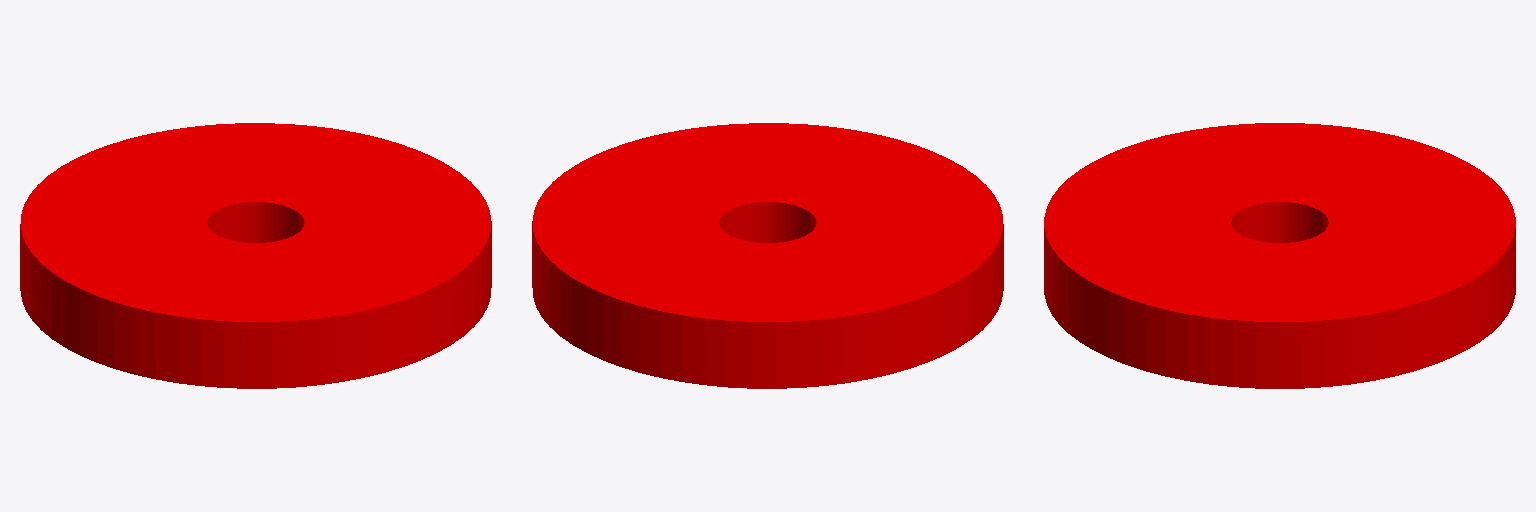
URDF robot description (token_d460):
<?xml version="1.0"?>
<robot name="token_d460">

    <material name="red">
        <color rgba="1 0 0 1"/>
    </material>

    <link name="token_d460_link">
        <inertial>
            <origin xyz="0 0 0.0036"/>
            <mass value="0.4" />
            <inertia  ixx="0.000056333" ixy="0.0"  ixz="0.0"  iyy="0.000056333"  iyz="0.0"  izz="0.000109850" />
        </inertial>
        <visual>
            <origin rpy="0 0 0" xyz="0 0 0"/>
            <geometry>
                <mesh filename="package://edo_games/meshes/towers_of_hanoi/token-46.STL" />
            </geometry>
            <material name="red"/>
        </visual>
        <collision>
            <origin rpy="0 0 0" xyz="0 0 0"/>
            <geometry>
                <mesh filename="package://edo_games/meshes/towers_of_hanoi/token-46.STL" />
            </geometry>
        </collision>
    </link>
    <gazebo reference="token_d460_link">
        <dampingFactor>0.5</dampingFactor>
        <material>Gazebo/Red</material>
    </gazebo>

</robot>

--- Facts derived from the render (not from the file) ---
Views: 3 orthographic renders of the robot side by side, from view 1: azimuth 30°, elevation 25°; view 2: azimuth 150°, elevation 25°; view 3: azimuth 270°, elevation 25°.
Robot: token_d460 — 1 links, 0 joints (none); root link token_d460_link; default pose: every joint at zero.
Links seen in each view (by area): view 1: token_d460_link; view 2: token_d460_link; view 3: token_d460_link.
Boxes of the visible links, x1,y1,x2,y2 form: token_d460_link: [20, 123, 491, 388]; token_d460_link: [532, 123, 1003, 388]; token_d460_link: [1044, 123, 1515, 388].
Bounding box of the posed robot: 0.046 × 0.0459 × 0.0072 m (x, y, z).
1 mesh visuals loaded from 1 distinct referenced files (1 binary STL).